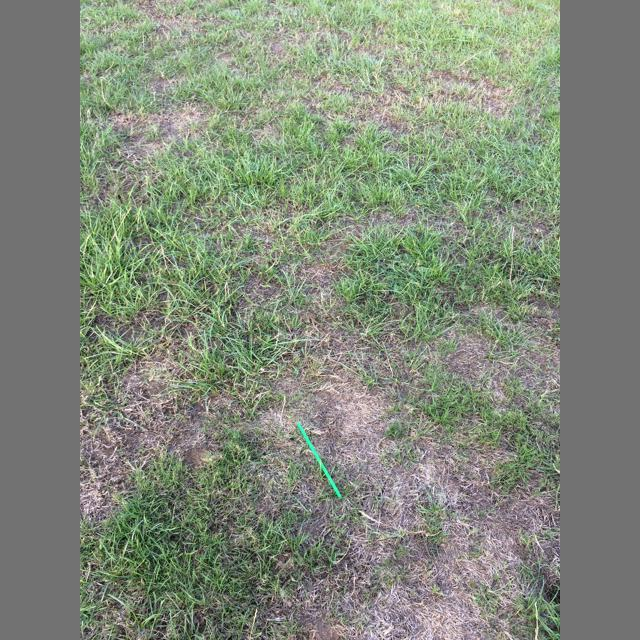litter: (297, 422, 341, 498)
